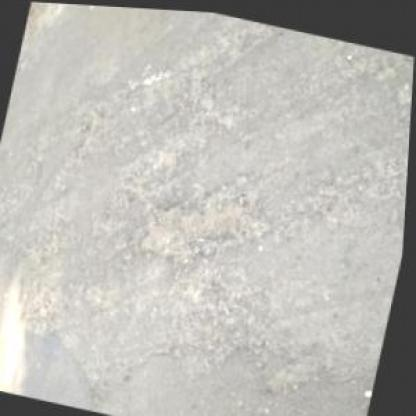pothole: (133, 146, 276, 280)
